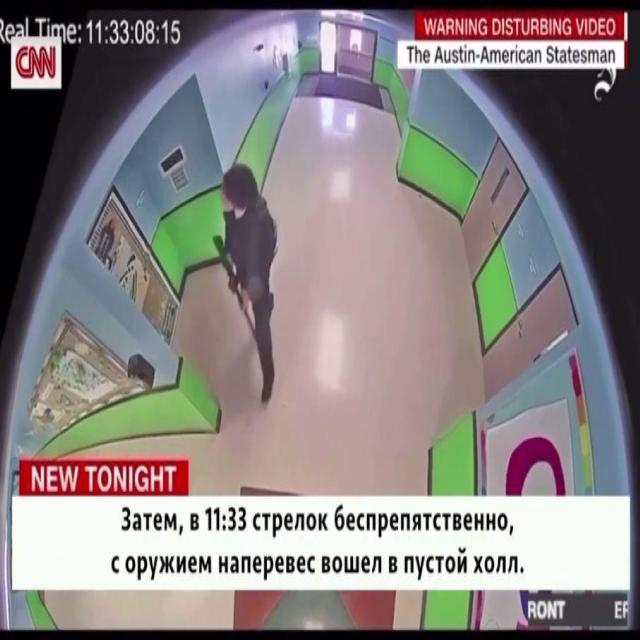pistol: (214, 228, 274, 348)
